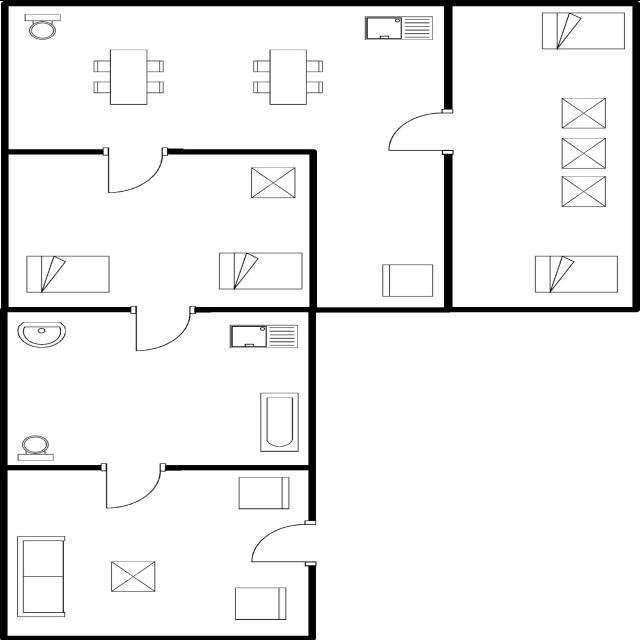bed: (214, 247, 306, 293), (20, 252, 114, 295), (530, 252, 623, 295), (538, 9, 630, 52)
coffee_table: (22, 252, 114, 294), (104, 556, 160, 594), (556, 93, 612, 131), (557, 133, 611, 171), (246, 164, 300, 201), (558, 172, 610, 210)
dining_table: (89, 43, 168, 109), (248, 45, 328, 109)
large_sink: (225, 322, 303, 351), (19, 10, 67, 44), (12, 432, 60, 464)
large_sofa: (11, 532, 70, 620)
small_sink: (12, 318, 68, 352)
small_sofa: (375, 260, 439, 300), (358, 12, 438, 42), (232, 583, 292, 623), (235, 473, 295, 513)
tub: (255, 388, 305, 456)
